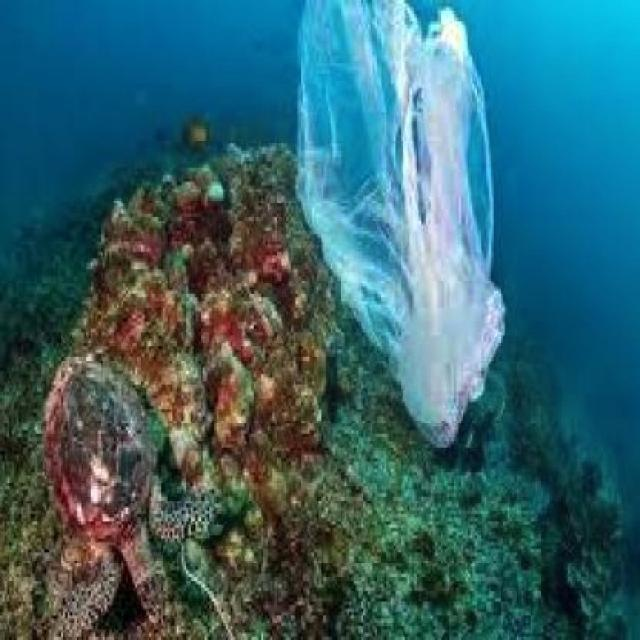pbag: (276, 3, 515, 454)
